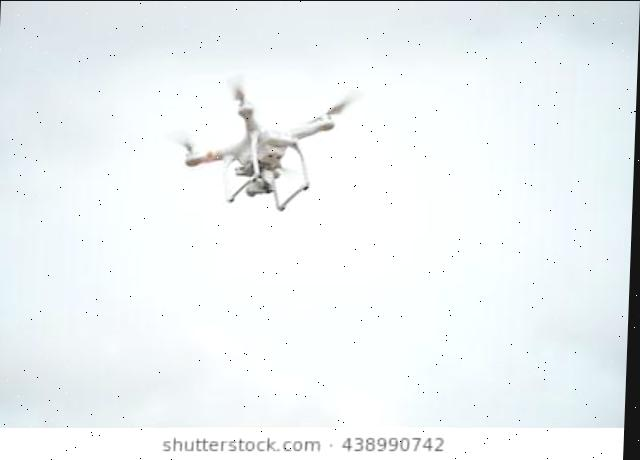drone: (142, 58, 383, 236)
